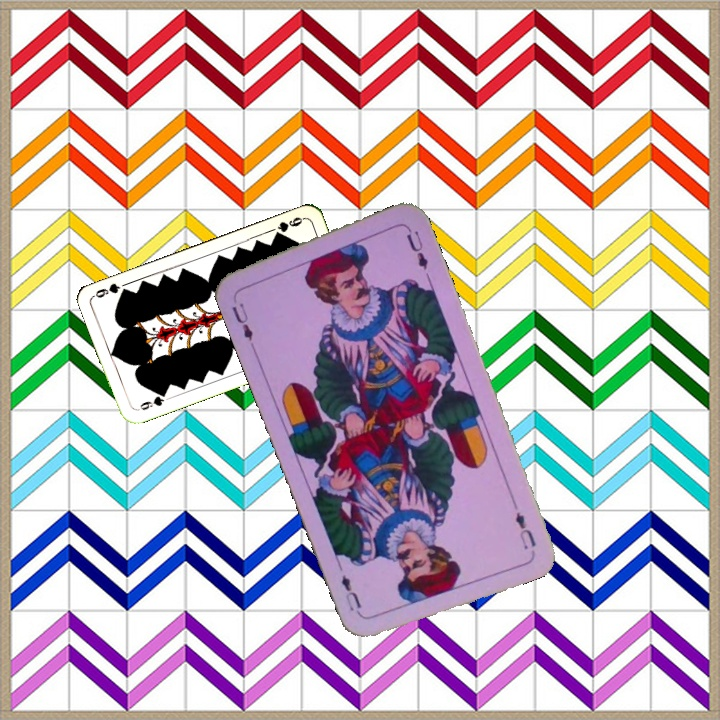EU: (227, 293, 256, 344), (511, 507, 539, 553)
G9: (270, 213, 307, 240), (133, 388, 169, 413)
